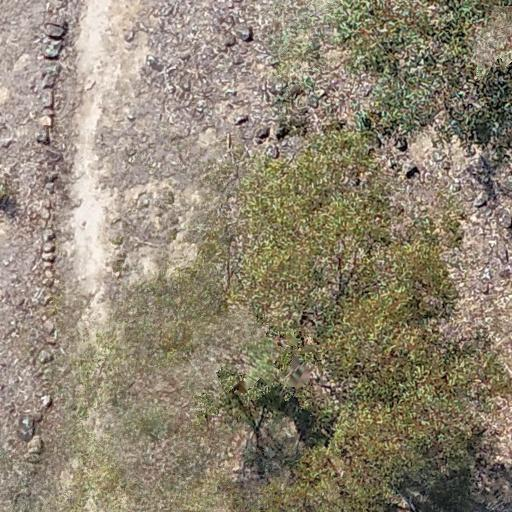stone: (232, 20, 254, 46), (46, 15, 65, 40), (41, 265, 59, 288), (40, 194, 52, 222), (40, 242, 64, 256), (38, 113, 54, 132), (35, 128, 53, 144), (44, 68, 58, 87), (40, 226, 59, 240), (44, 44, 61, 56), (44, 93, 52, 110)
